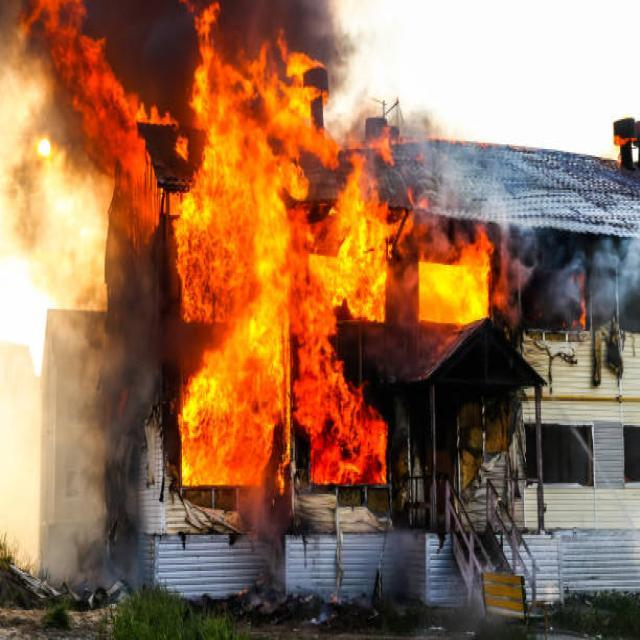Fire: (192, 43, 393, 482), (52, 2, 164, 220), (416, 215, 499, 328)
Smoke: (8, 2, 356, 142), (496, 202, 640, 315), (8, 144, 60, 242)
